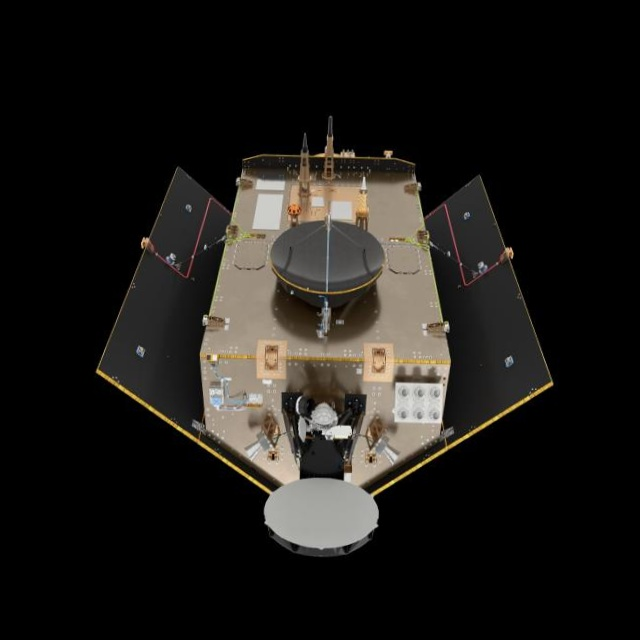satellite: (68, 80, 594, 584)
